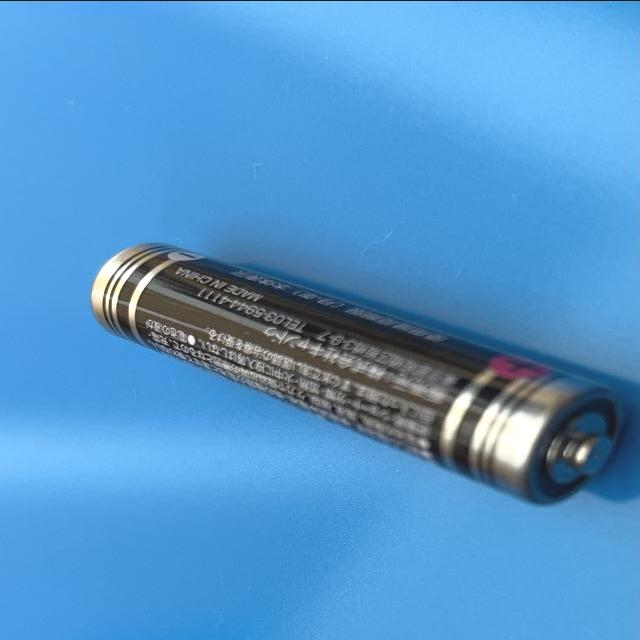AAA: (88, 238, 626, 508)
